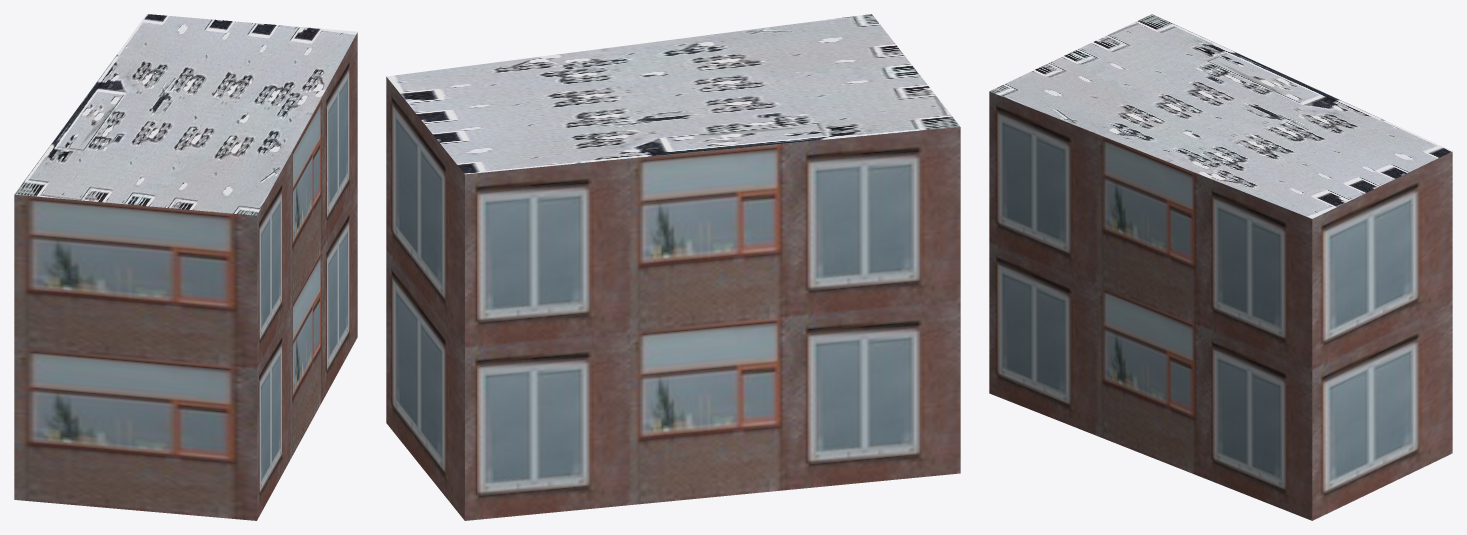
Rendered from ResTex__468.fbx.
3 renders of one model, left to right at view 1: azimuth 30°, elevation 25°; view 2: azimuth 150°, elevation 25°; view 3: azimuth 270°, elevation 25°, orthographic. The views are drawn at different scales.
Parts seen in each view (by area): view 1: CityEngineMaterial_19_m, CityEngineMaterial_15_m; view 2: CityEngineMaterial_19_m, CityEngineMaterial_15_m; view 3: CityEngineMaterial_19_m, CityEngineMaterial_15_m.
Boxes of the visible parts, bbox=[...] form: CityEngineMaterial_19_m: bbox=[14, 32, 357, 520]; CityEngineMaterial_15_m: bbox=[14, 14, 357, 215]; CityEngineMaterial_19_m: bbox=[386, 77, 960, 520]; CityEngineMaterial_15_m: bbox=[386, 14, 960, 174]; CityEngineMaterial_19_m: bbox=[989, 91, 1452, 520]; CityEngineMaterial_15_m: bbox=[989, 14, 1452, 218].
Bounding box in the file's own units: 8.74 × 6 × 8.35.
Materials: 2 (2 with a texture image).
